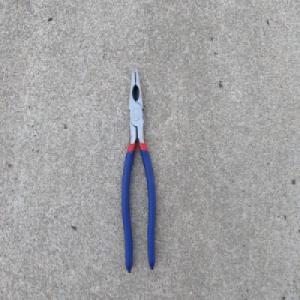Pliers: (120, 65, 156, 274)
